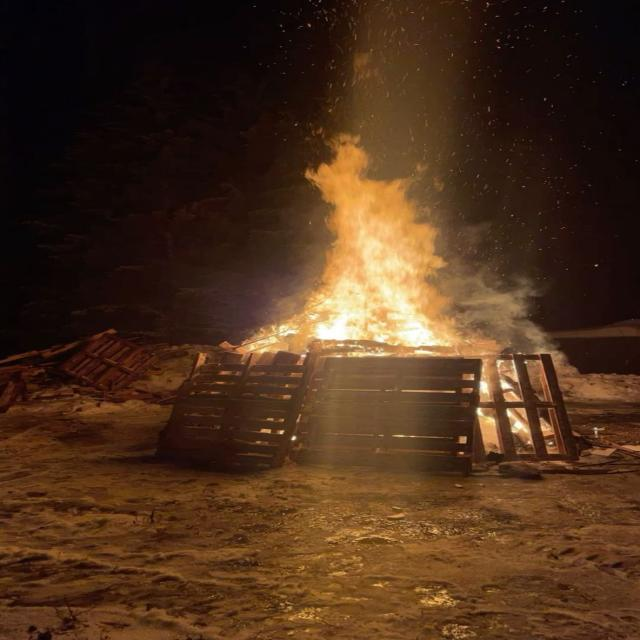fire: (234, 131, 456, 355)
